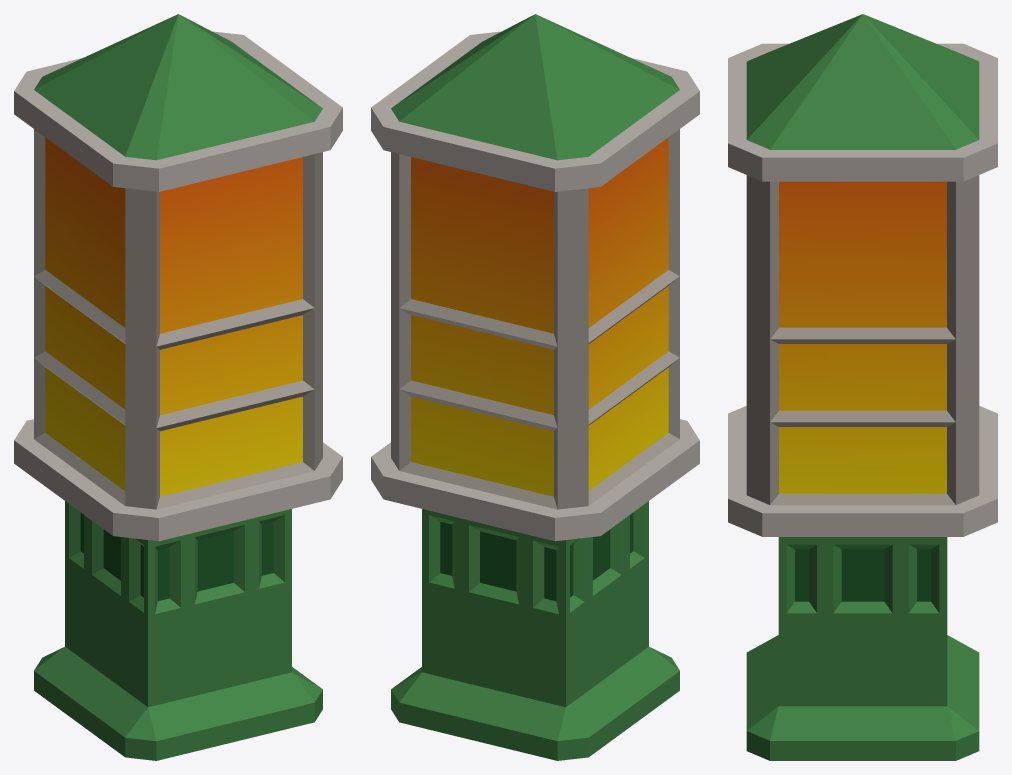
The model's file is m_dec_dung_lampFire_tall.fbx.
The picture shows the model from 3 angles, left to right: view 1: azimuth 30°, elevation 25°; view 2: azimuth 150°, elevation 25°; view 3: azimuth 270°, elevation 25°; orthographic projection.
Parts seen in each view (by area): view 1: m_dec_dung_lampFire_tall; view 2: m_dec_dung_lampFire_tall; view 3: m_dec_dung_lampFire_tall.
Part boxes in pixels (box(x1,y1,x2,y2)): m_dec_dung_lampFire_tall: box(14, 14, 342, 760); m_dec_dung_lampFire_tall: box(371, 14, 699, 760); m_dec_dung_lampFire_tall: box(728, 14, 997, 760).
Bounding box in the file's own units: 1.16 × 3.31 × 1.16.
